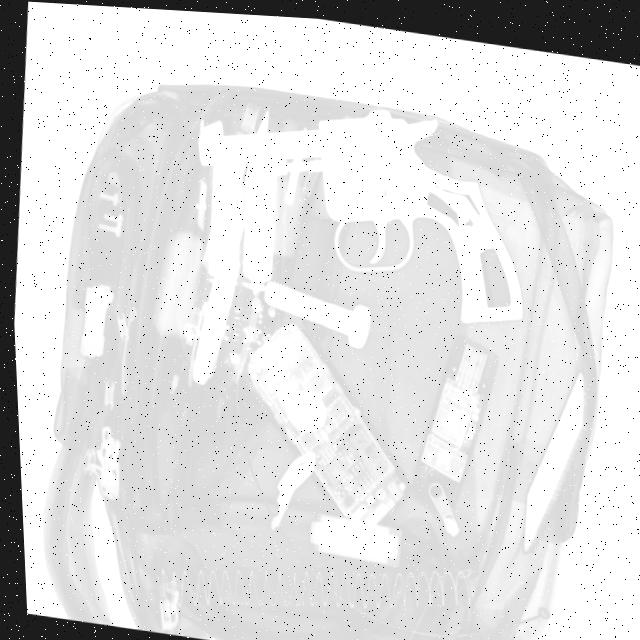pistol: (181, 79, 539, 329)
